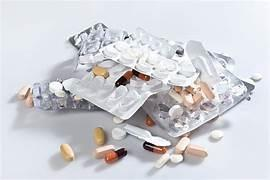pill_Strip: (143, 68, 253, 136), (63, 66, 168, 118), (99, 42, 198, 86), (70, 79, 167, 119), (143, 97, 217, 136), (69, 23, 128, 69), (63, 63, 128, 97), (32, 81, 99, 110), (68, 23, 128, 54), (185, 40, 220, 83), (133, 27, 183, 57), (132, 28, 184, 54), (79, 29, 126, 54), (82, 57, 129, 80), (123, 124, 170, 146), (69, 23, 107, 49), (171, 84, 203, 109), (170, 133, 190, 162), (207, 51, 234, 71), (104, 148, 127, 164), (107, 64, 128, 80), (143, 141, 166, 153), (199, 81, 214, 99), (185, 145, 207, 157), (94, 145, 114, 158), (115, 71, 132, 86), (154, 153, 170, 168), (188, 117, 207, 129), (60, 144, 74, 160), (175, 137, 189, 153), (98, 56, 116, 68), (100, 46, 123, 55), (93, 127, 105, 144), (132, 69, 150, 80), (168, 89, 182, 103), (17, 85, 30, 99), (92, 66, 108, 77), (200, 101, 217, 111), (202, 58, 212, 75), (112, 127, 126, 139), (103, 46, 117, 58), (168, 105, 182, 117), (78, 54, 93, 65), (182, 94, 193, 109), (49, 81, 62, 92), (24, 92, 33, 107), (183, 93, 193, 106), (115, 41, 128, 51), (192, 93, 202, 105), (210, 130, 223, 139), (170, 154, 183, 163), (145, 115, 154, 126), (250, 73, 262, 81), (113, 116, 124, 123), (54, 90, 65, 97), (184, 86, 193, 93), (173, 86, 182, 92), (73, 95, 82, 100)
